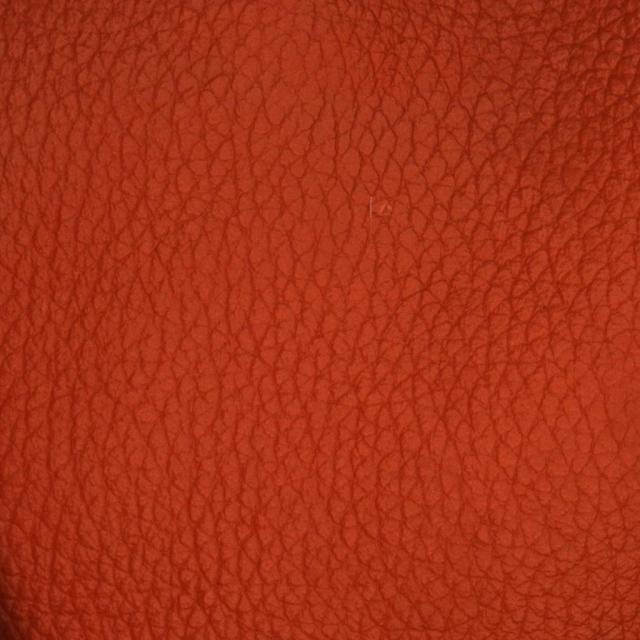Bacterial Injury: (334, 161, 428, 263)
